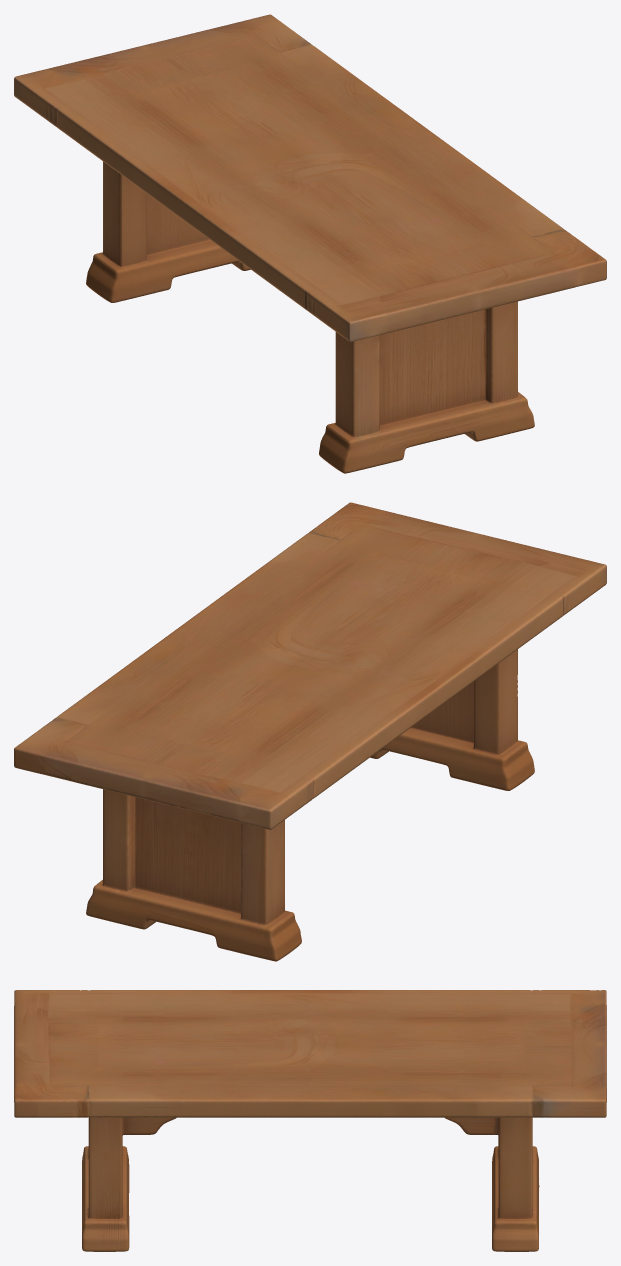
The model's file is detailed_realistic_model_largeoaktable_06.glb.
The picture shows the model from 3 angles, top to bottom: view 1: azimuth 30°, elevation 25°; view 2: azimuth 150°, elevation 25°; view 3: azimuth 270°, elevation 25°; orthographic projection. The views are drawn at different scales.
Visible parts, largest first — view 1: tripo_node_cc4c49d9-87cb-4473-9f2d-f1ff10c0ed70; view 2: tripo_node_cc4c49d9-87cb-4473-9f2d-f1ff10c0ed70; view 3: tripo_node_cc4c49d9-87cb-4473-9f2d-f1ff10c0ed70.
Boxes of the visible parts, left/top/right/bottom form: tripo_node_cc4c49d9-87cb-4473-9f2d-f1ff10c0ed70: left=14, top=14, right=606, bottom=473; tripo_node_cc4c49d9-87cb-4473-9f2d-f1ff10c0ed70: left=14, top=502, right=606, bottom=961; tripo_node_cc4c49d9-87cb-4473-9f2d-f1ff10c0ed70: left=14, top=990, right=606, bottom=1251.
Size of the model in its own units: 0.4428 by 0.3103 by 1.
1 material, 1 textured.
